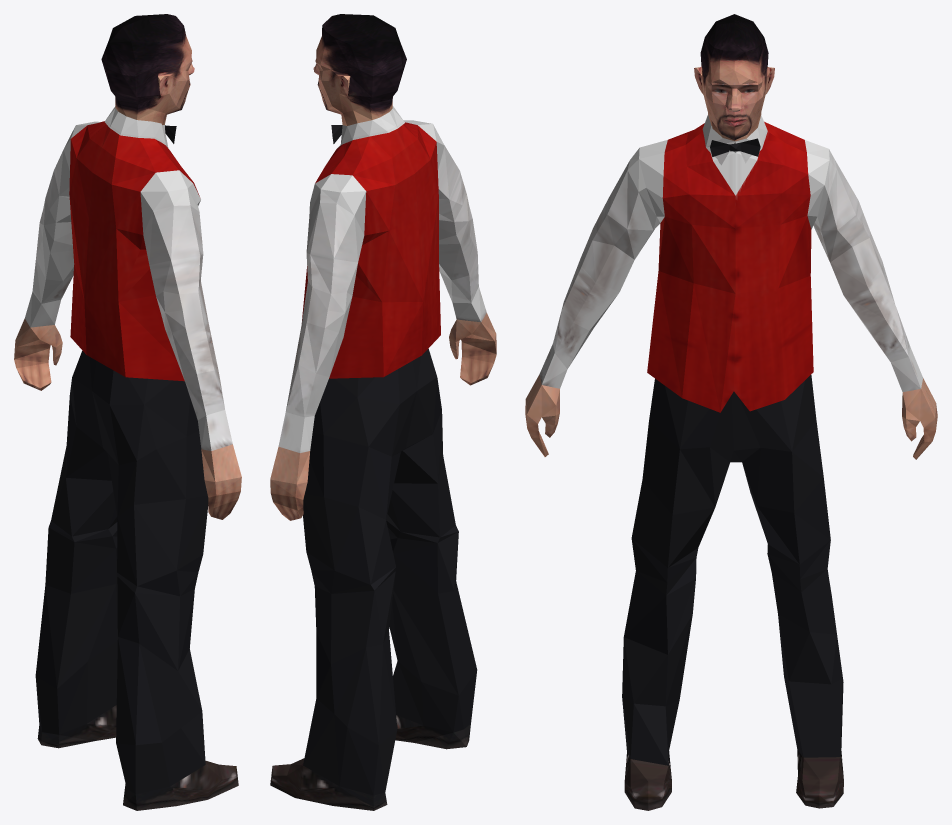
The model's file is wmyva.obj.
The picture shows the model from 3 angles, left to right: view 1: azimuth 30°, elevation 25°; view 2: azimuth 150°, elevation 25°; view 3: azimuth 270°, elevation 25°; orthographic projection. The views are drawn at different scales.
Visible parts, largest first — view 1: _Pelvis; view 2: _Pelvis; view 3: _Pelvis.
Boxes of the visible parts, bbox=[...] form: _Pelvis: bbox=[14, 14, 241, 810]; _Pelvis: bbox=[270, 14, 496, 810]; _Pelvis: bbox=[525, 14, 937, 810].
Bounding box in the file's own units: 0.3084 × 1.89 × 0.9238.
Materials: 1 (1 with a texture image).
